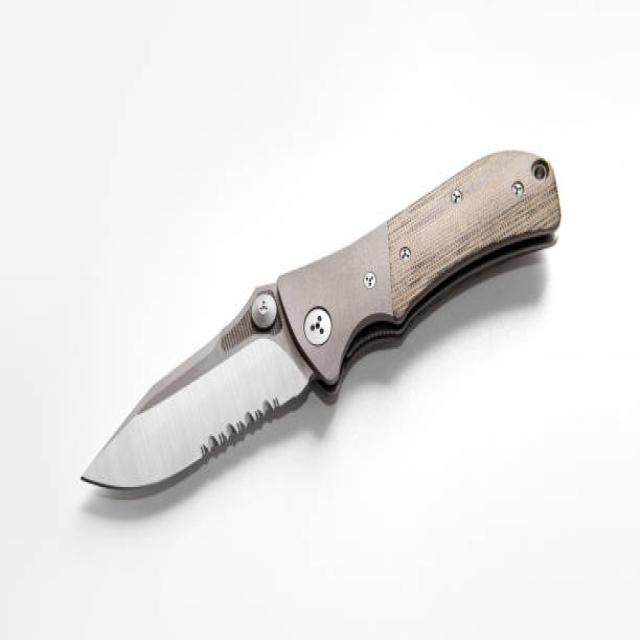knife: (81, 131, 565, 531)
